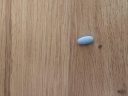Apranax: (77, 35, 94, 45)
